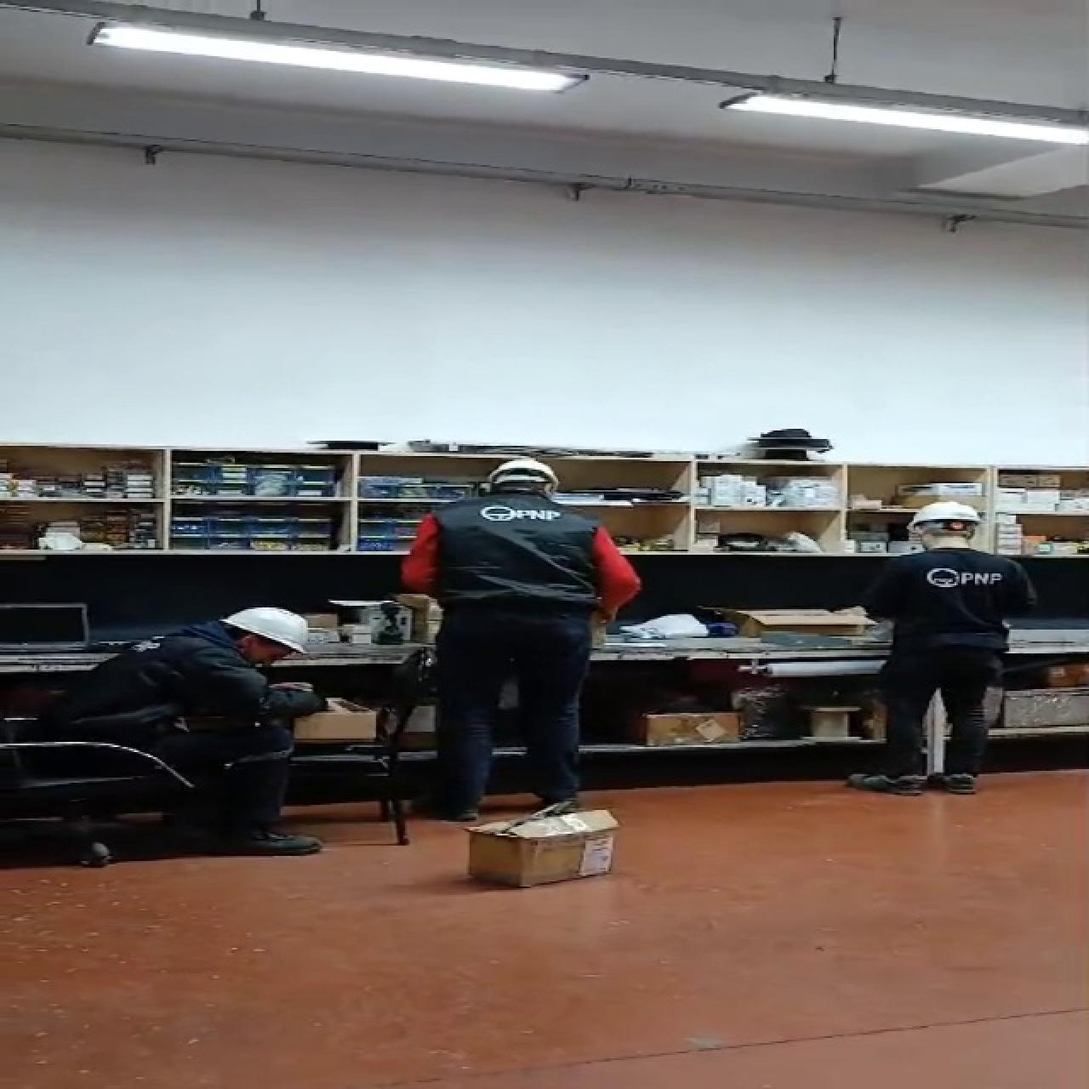NO_Safety_Vest: (44, 626, 242, 760), (432, 496, 605, 626), (897, 553, 1011, 664)
Person: (391, 434, 637, 803), (34, 593, 347, 840), (843, 483, 1036, 802)
